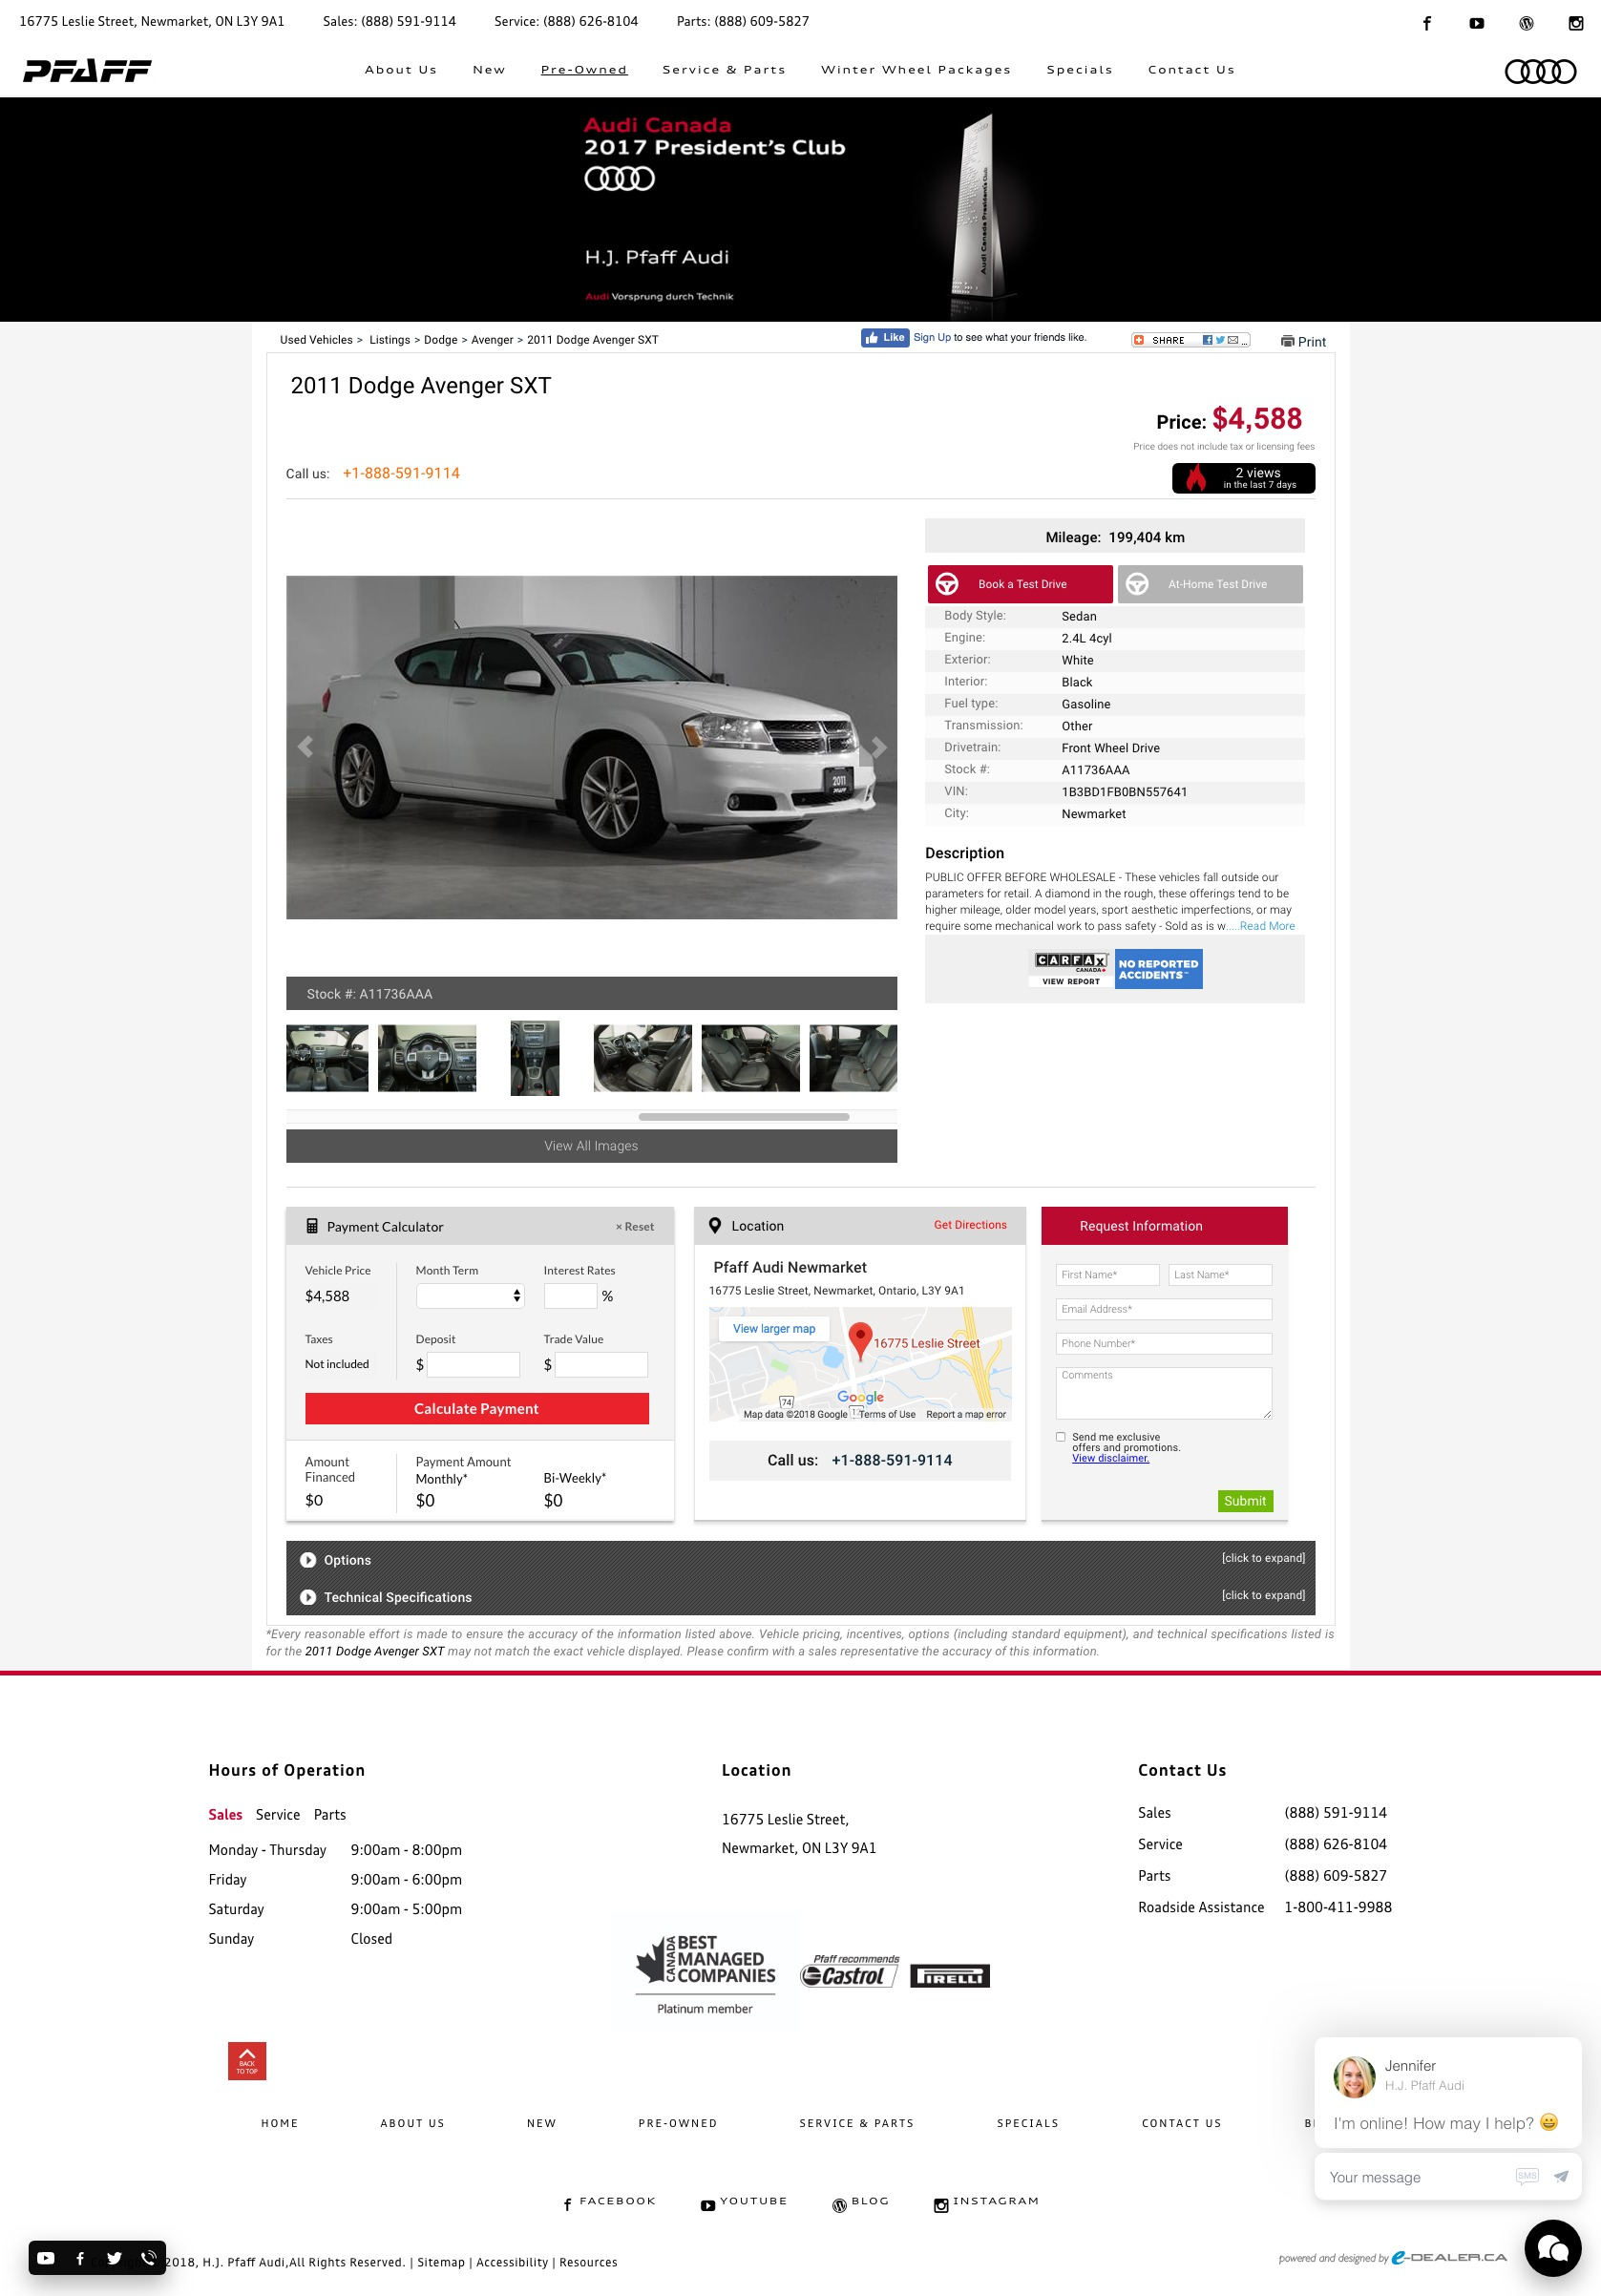car: (860, 726, 900, 769)
